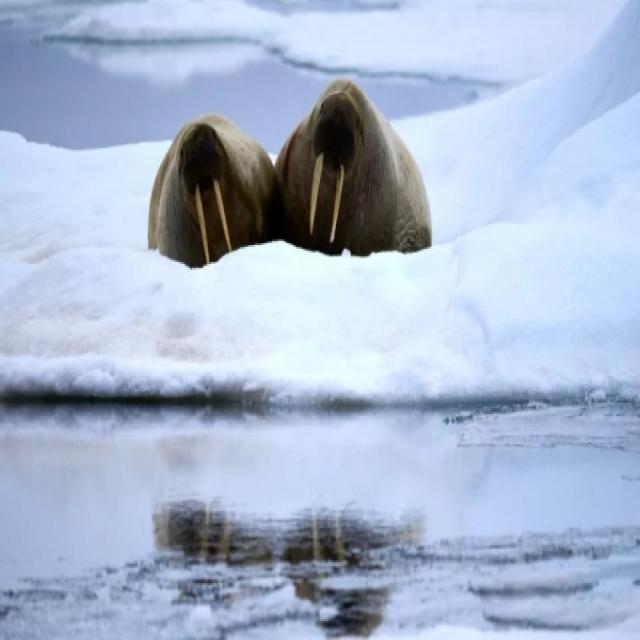walrus: (106, 51, 263, 266), (287, 49, 424, 288)
